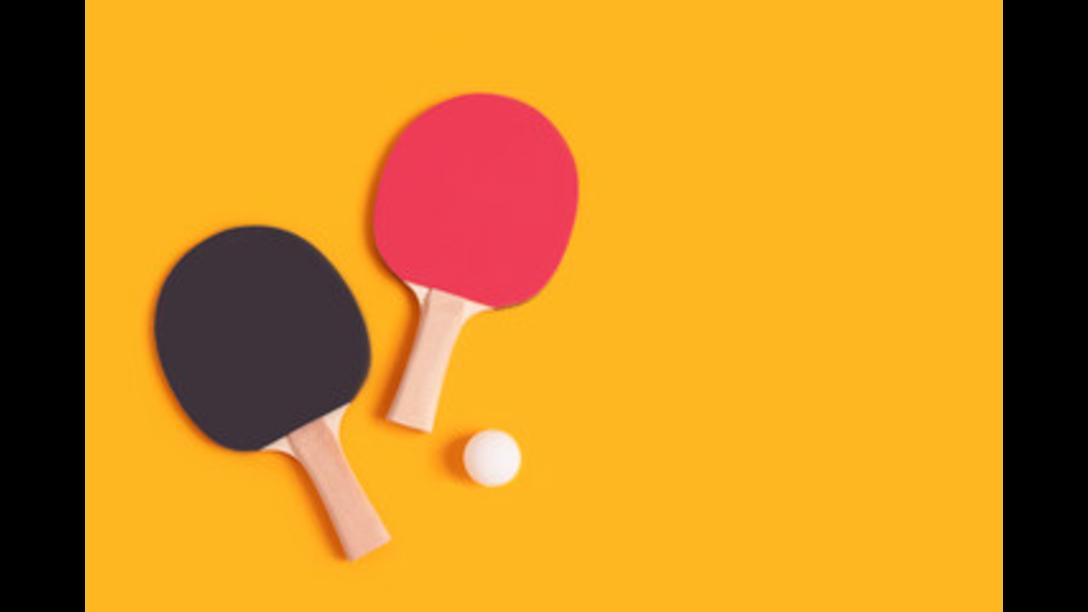Table-Tennis-Ball: (465, 429, 519, 483)
